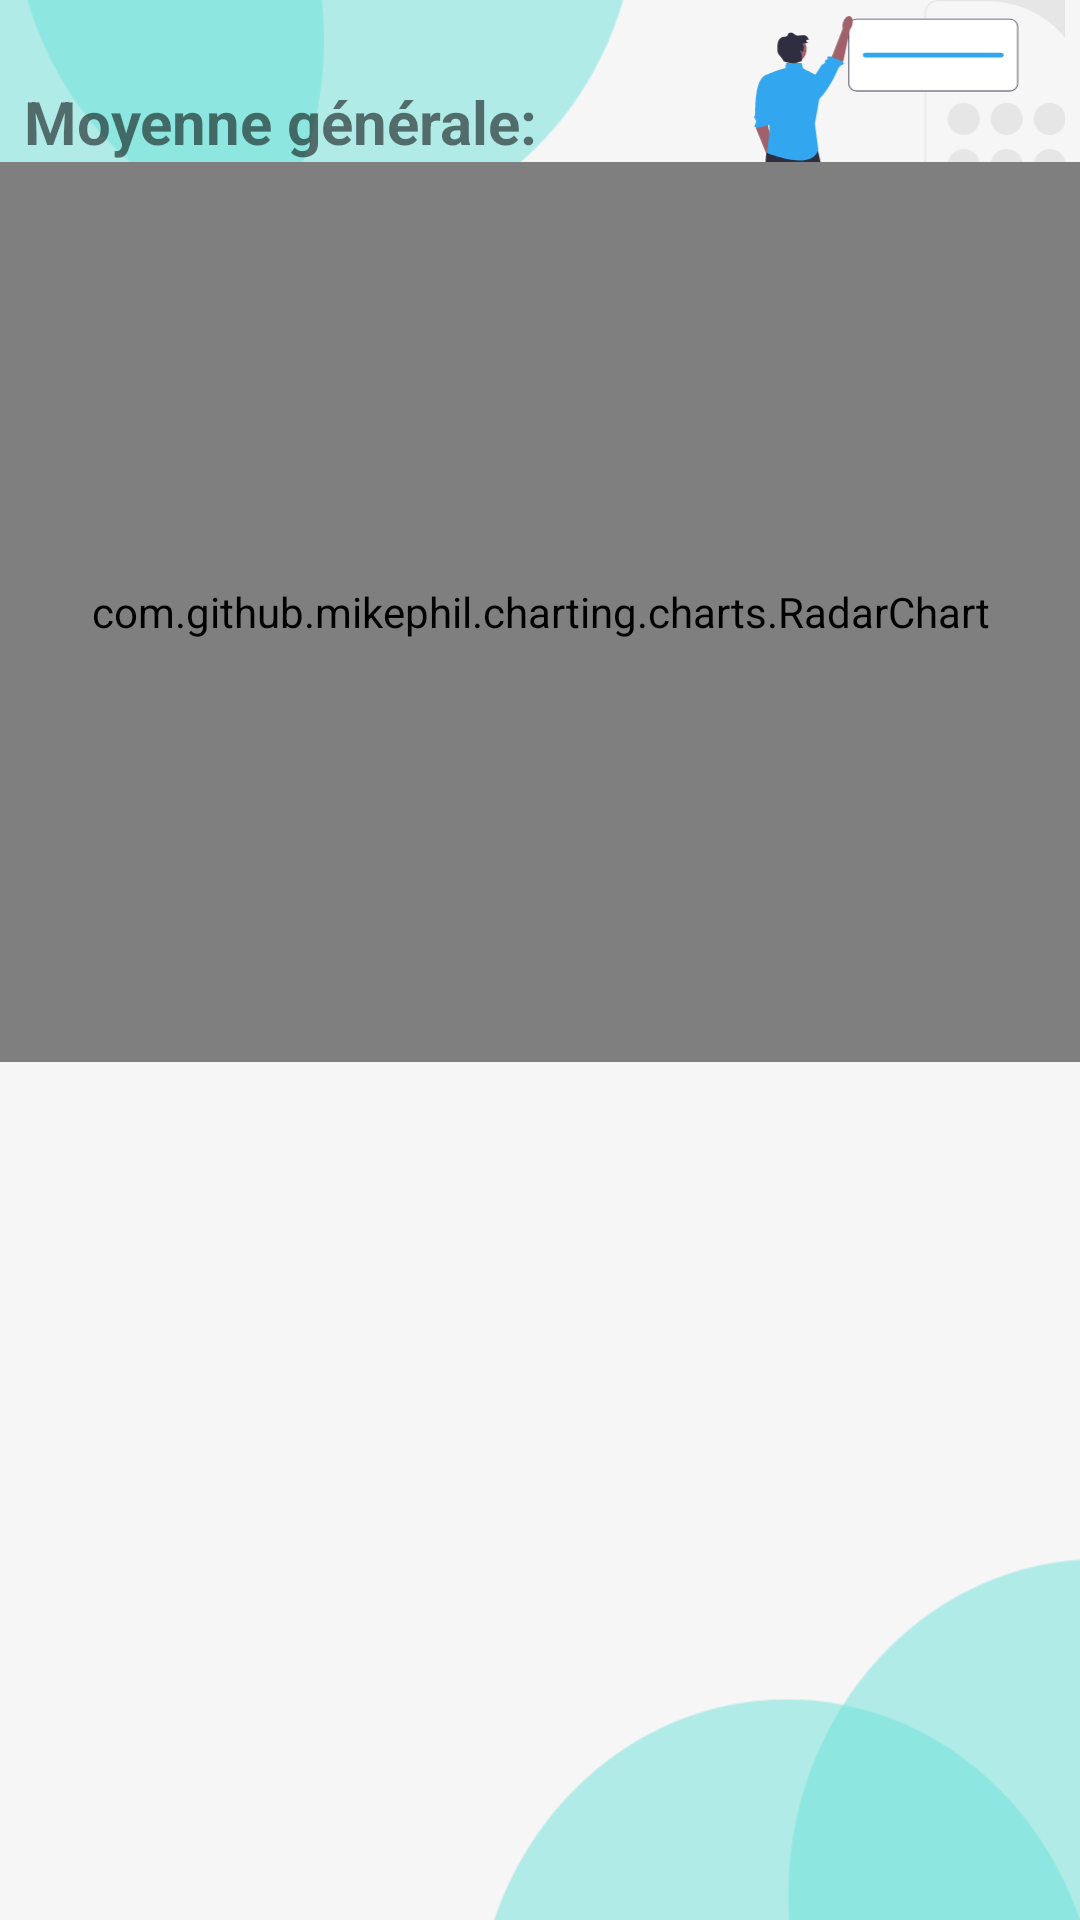

Where to tap for icons on this 1080×1920 app screen, as point (x, y):
undraw calculator re alsc: point (900, 81)
